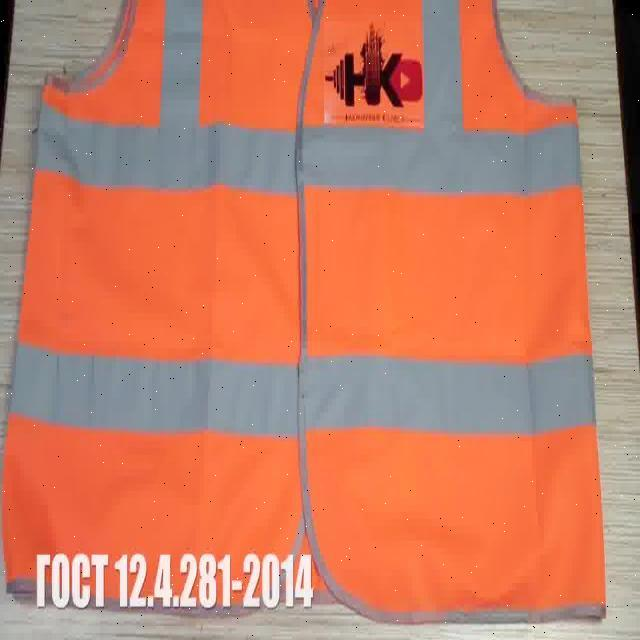Vest: (0, 1, 609, 629)
